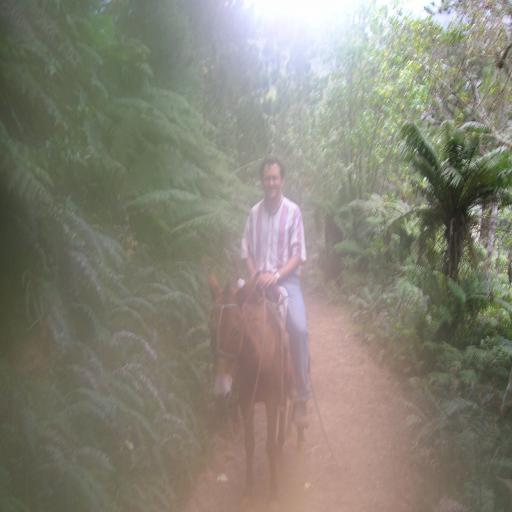horse: (205, 267, 299, 509)
